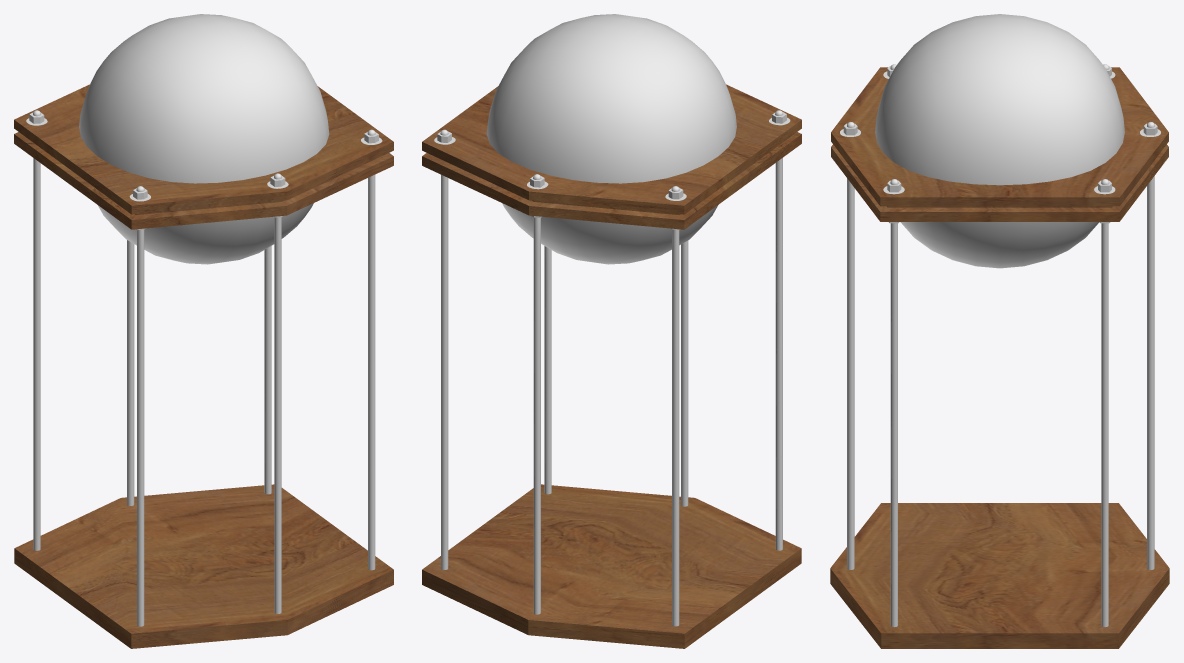
Rendered from bolaCristal003.fbx.
The picture shows the model from 3 angles, left to right: view 1: azimuth 30°, elevation 25°; view 2: azimuth 150°, elevation 25°; view 3: azimuth 270°, elevation 25°; orthographic projection.
Parts seen in each view (by area): view 1: Cube, Esfera, BaseSuperior, palo.005, palo.002, palo, palo.003, palo.004, palo.001; view 2: Cube, Esfera, BaseSuperior, palo.003, palo.004, palo.001, palo.002, palo.005, palo; view 3: Cube, Esfera, BaseSuperior, palo, palo.001, palo.004, palo.005.
Part boxes in pixels (x1,y1,x2,y2): Cube: [14, 484, 393, 648]; Esfera: [79, 14, 329, 264]; BaseSuperior: [14, 84, 393, 229]; palo.005: [274, 217, 281, 613]; palo.002: [137, 230, 144, 626]; palo: [368, 174, 375, 570]; palo.003: [33, 158, 40, 550]; palo.004: [127, 240, 134, 505]; palo.001: [264, 246, 271, 494]; Cube: [422, 484, 801, 648]; Esfera: [486, 14, 736, 264]; BaseSuperior: [422, 84, 801, 229]; palo.003: [672, 229, 679, 626]; palo.004: [533, 217, 540, 614]; palo.001: [441, 174, 448, 569]; palo.002: [775, 158, 782, 550]; palo.005: [681, 240, 688, 506]; palo: [544, 246, 551, 494]; Cube: [830, 503, 1169, 648]; Esfera: [875, 14, 1124, 268]; BaseSuperior: [831, 67, 1168, 221]; palo: [890, 223, 897, 627]; palo.001: [1101, 223, 1108, 627]; palo.004: [1147, 176, 1154, 569]; palo.005: [847, 178, 854, 569].
Size of the model in its own units: 451 by 897 by 496.
